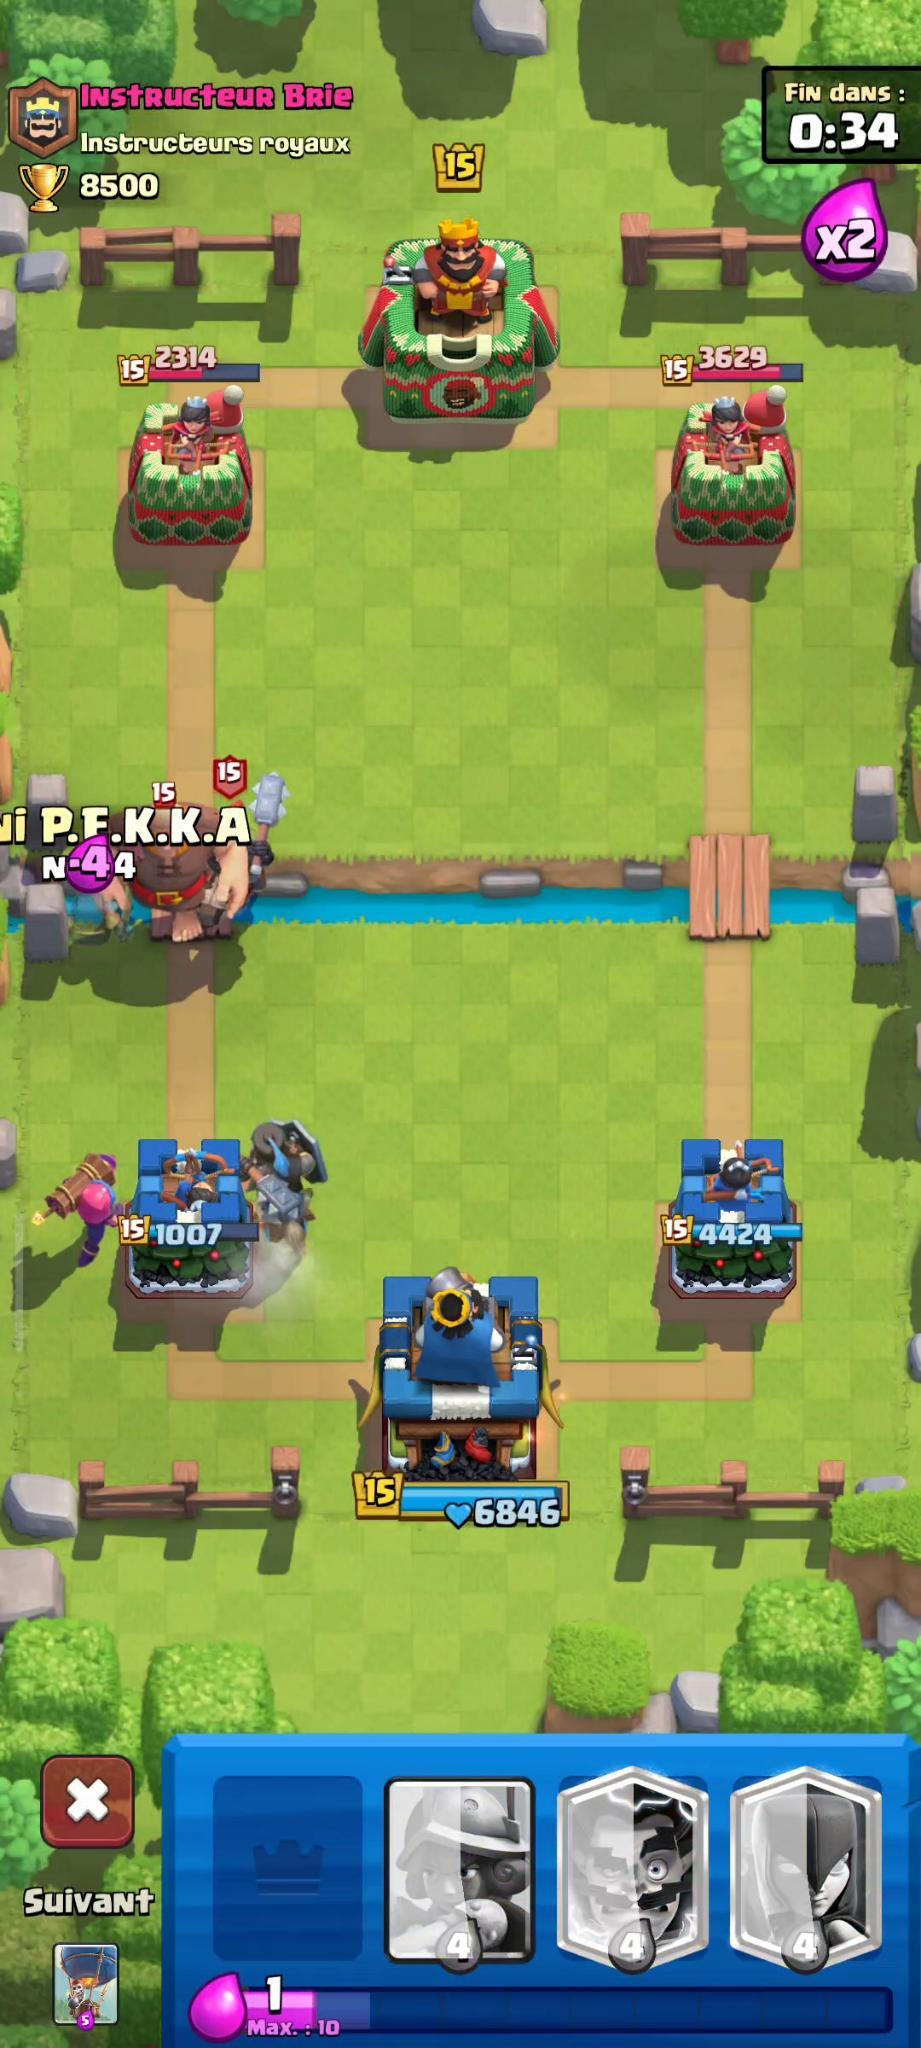enemy_giant: (133, 845, 254, 965)
player_dark_prince: (242, 1113, 331, 1251)
player_evo_firecracker: (27, 1149, 134, 1269)
